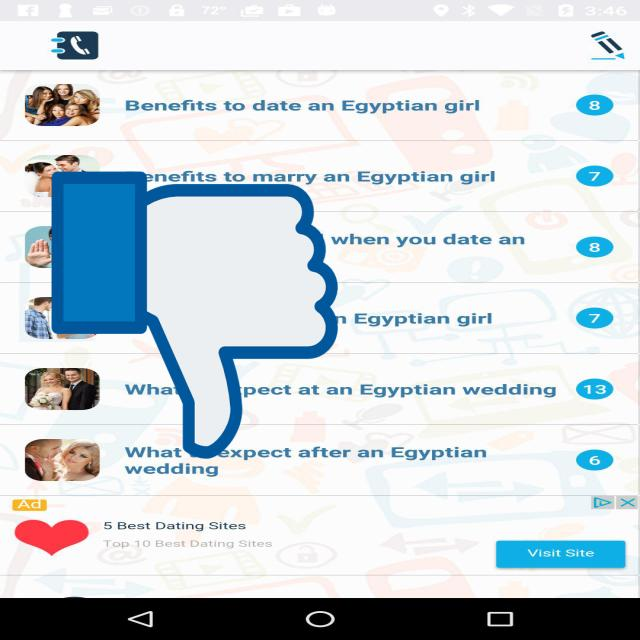obstruction: (51, 165, 338, 465)
